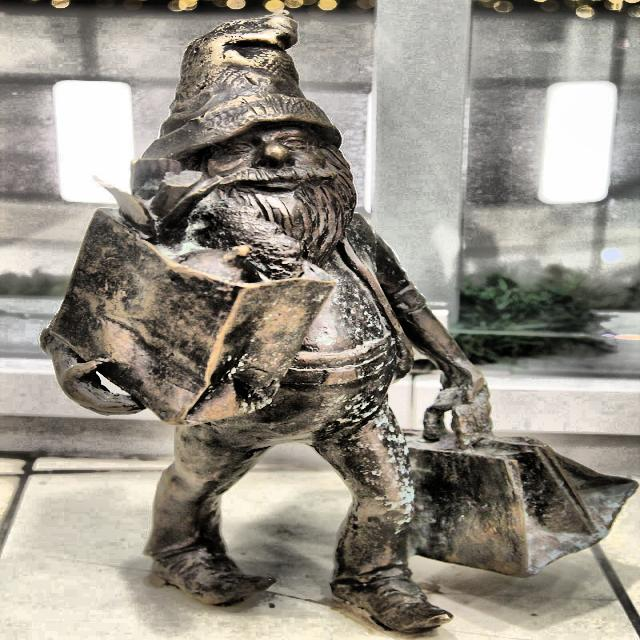Trendus: (40, 10, 638, 637)
